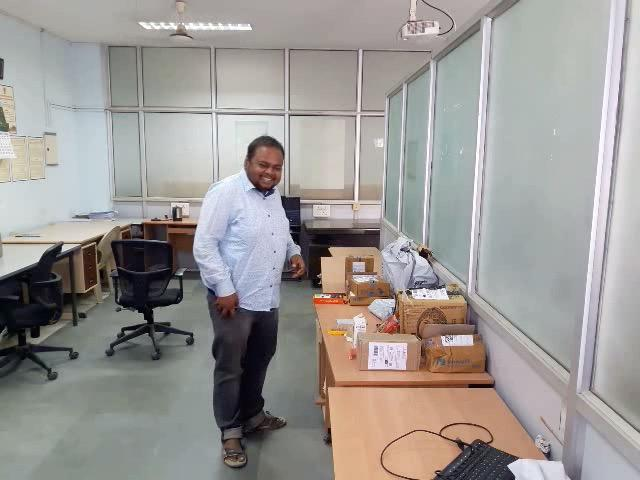shoplifting: (180, 243, 304, 369)
